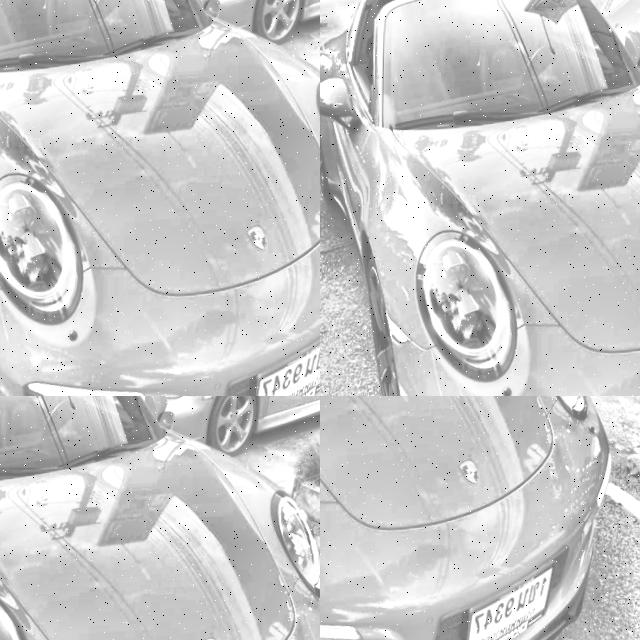license-plate: (453, 552, 563, 640), (357, 182, 447, 264)
